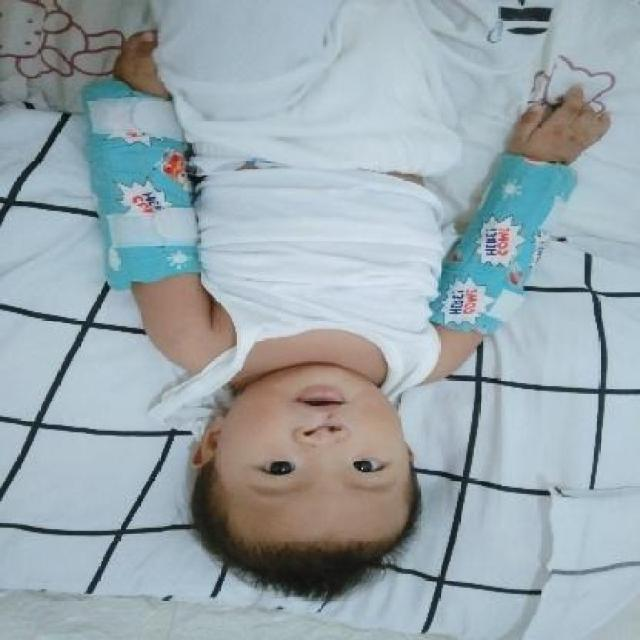baby: (78, 1, 608, 602)
